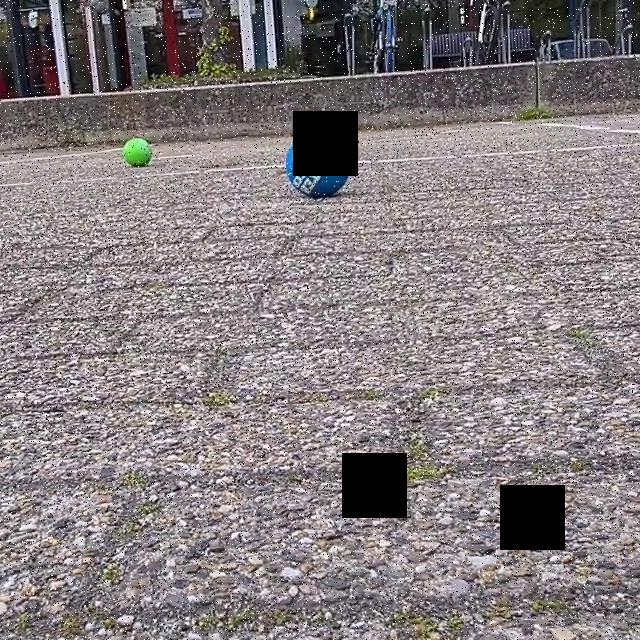ball: (122, 135, 154, 171), (332, 119, 350, 144)
